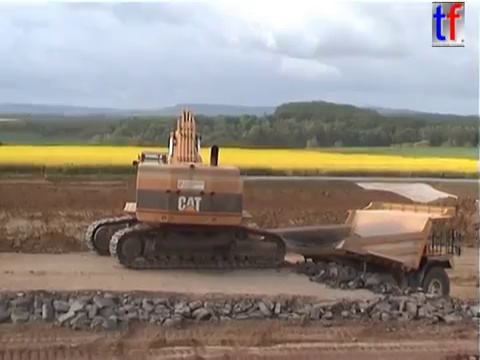excavator: (83, 106, 288, 271)
truck: (258, 199, 462, 321)
